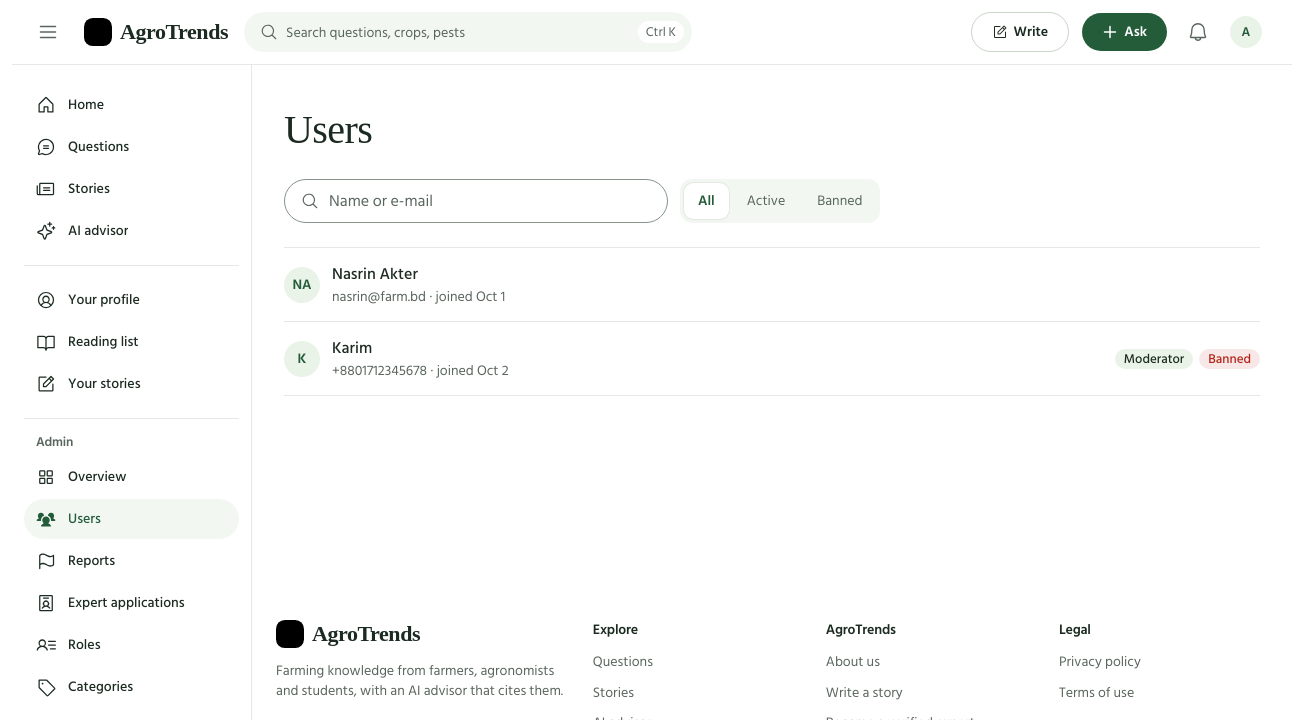
Test: users are searched by name or e-mail and filtered by ban state
Expected: the text "+8801712345678 · joined Oct 2" is shown, left=332, top=359, right=509, bottom=382
Expected: the text "Banned" is shown, left=1199, top=349, right=1260, bottom=369
Type "nasrin" into the search field named "Search members by name or e-mail".
click(490, 201); type("nasrin")  # box left=329, top=189, right=651, bottom=213
Then press Enter
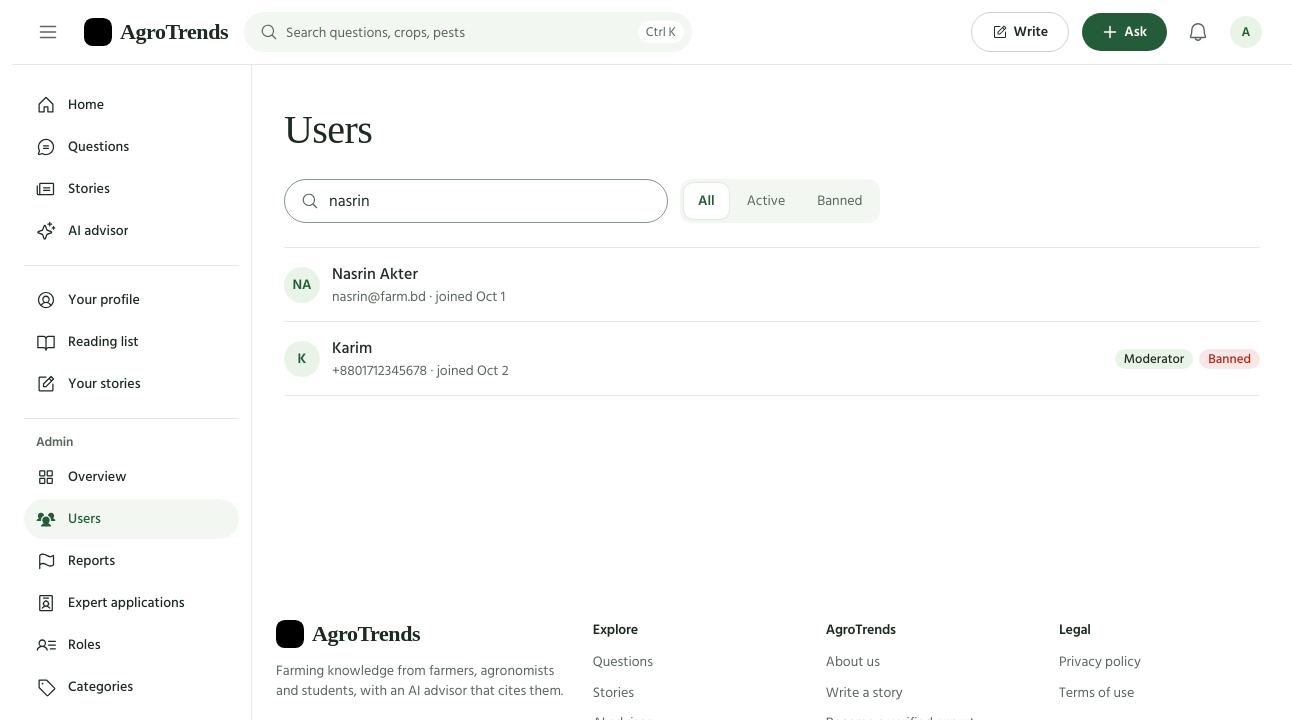
Click the link "Banned".
click(840, 200)  # box left=817, top=189, right=862, bottom=212
(page scrolled)
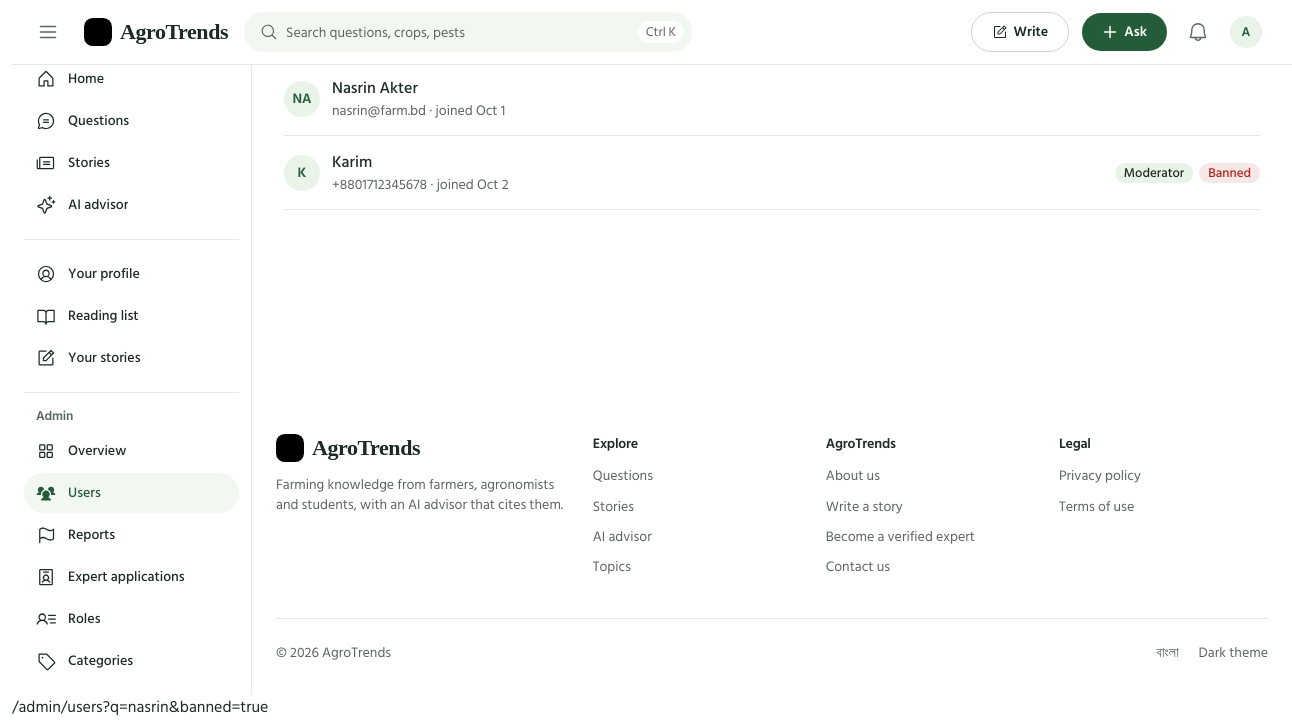
Expected: the text with test id "path" reads "/admin/users?q=nasrin&banned=true", left=12, top=694, right=268, bottom=719
